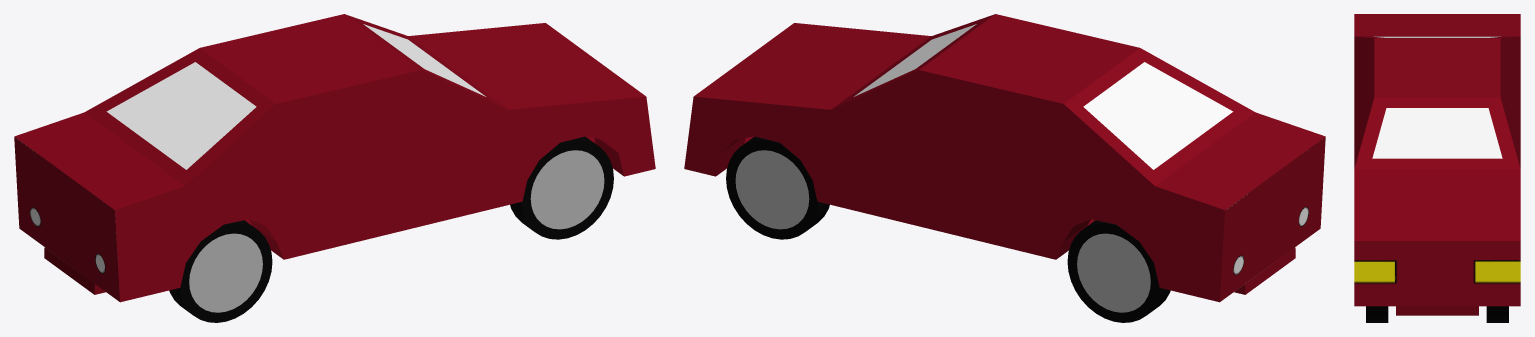
The model's file is car.fbx.
3 renders of one model, left to right at view 1: azimuth 30°, elevation 25°; view 2: azimuth 150°, elevation 25°; view 3: azimuth 270°, elevation 25°, orthographic. The views are drawn at different scales.
Visible parts, largest first — view 1: 立方体; view 2: 立方体; view 3: 立方体.
Boxes of the visible parts, <box> form: 立方体: <box>14,14,655,322</box>; 立方体: <box>684,14,1325,322</box>; 立方体: <box>1354,14,1520,322</box>.
Bounding box in the file's own units: 370 × 131 × 119.
